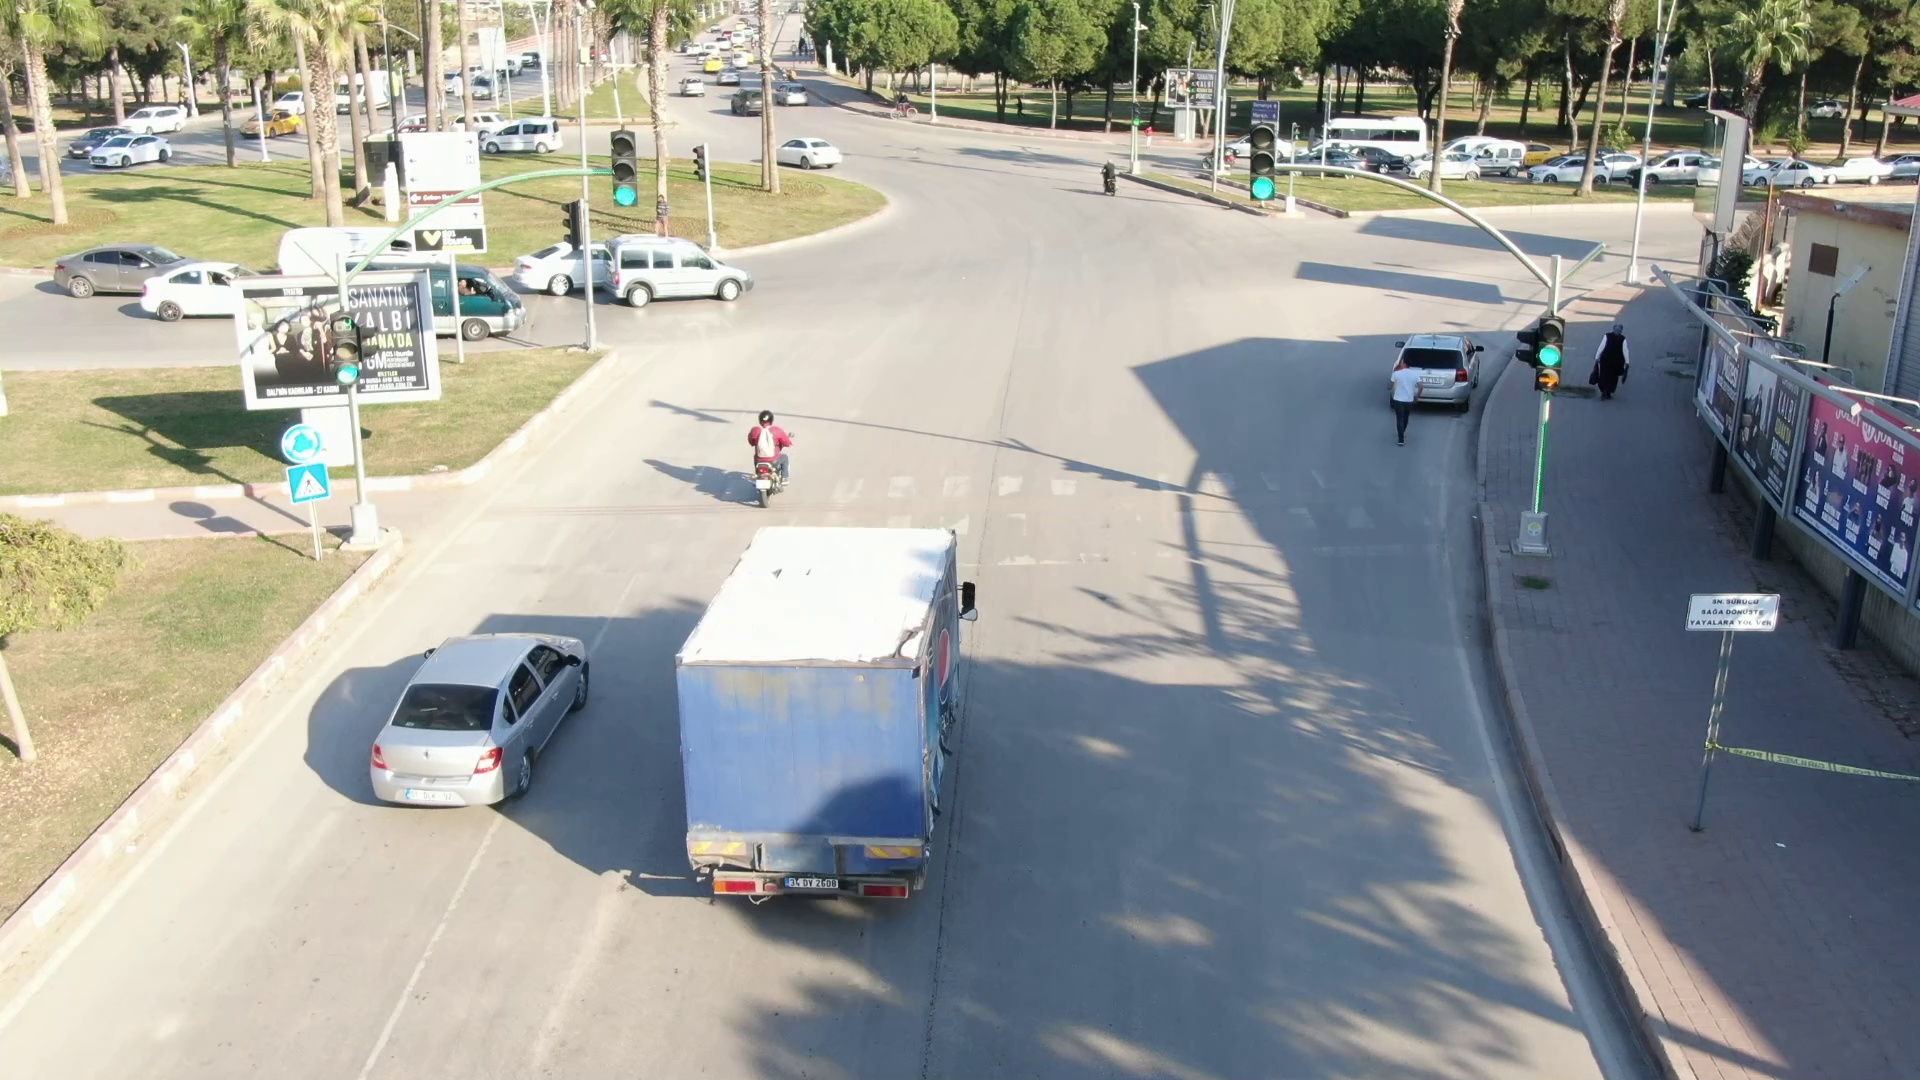car: (351, 584, 614, 834), (598, 227, 760, 310), (40, 237, 210, 305), (1525, 147, 1621, 192), (764, 126, 847, 174), (84, 131, 178, 170), (725, 83, 776, 117), (676, 72, 707, 100)
person: (741, 398, 805, 487), (1382, 346, 1430, 450), (1587, 316, 1635, 408)
